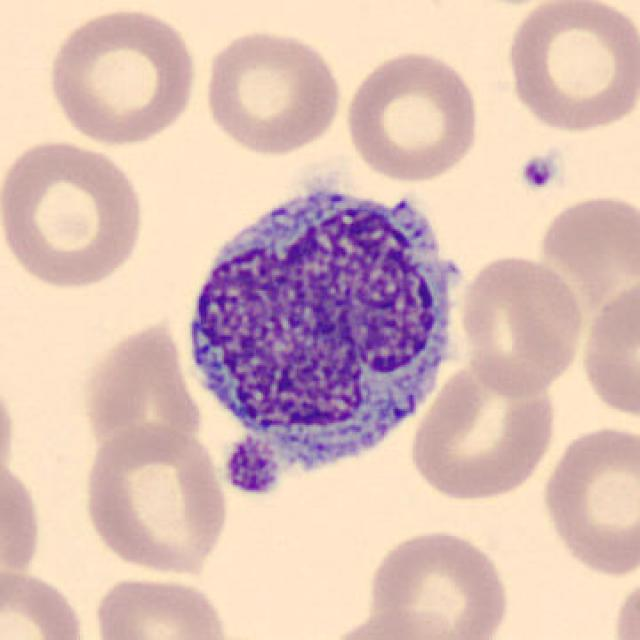Monocyte: (174, 166, 471, 502)
Platelets: (218, 436, 285, 497), (517, 150, 560, 196)
RBC: (78, 422, 231, 578), (0, 135, 149, 292), (43, 4, 201, 148), (407, 360, 562, 504), (454, 249, 588, 400), (75, 314, 206, 464), (342, 48, 484, 185), (199, 25, 345, 157), (502, 0, 638, 136), (364, 526, 514, 638), (537, 420, 638, 580), (532, 185, 638, 317), (89, 571, 235, 640), (576, 271, 638, 425), (0, 562, 91, 640), (0, 449, 44, 597), (318, 606, 467, 640), (0, 367, 20, 502), (610, 566, 640, 640)
